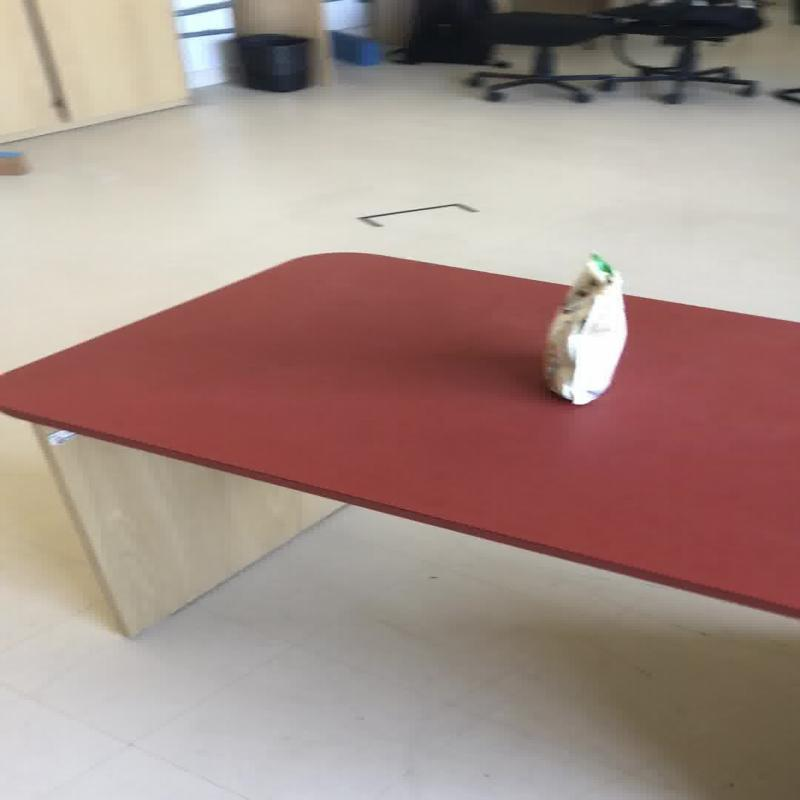corn flakes: (539, 251, 627, 405)
